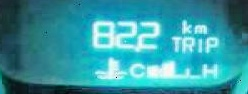-: (133, 45, 138, 52)
2: (136, 19, 160, 49), (113, 18, 135, 49)
8: (88, 18, 113, 49)
X: (198, 60, 217, 79), (126, 61, 145, 77), (203, 35, 217, 52), (166, 34, 180, 51), (180, 34, 193, 51), (192, 21, 208, 34), (178, 18, 190, 34), (193, 36, 203, 52)
